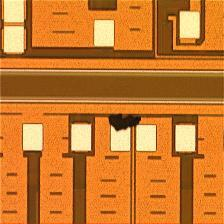PARTICLE: (103, 110, 146, 134)
